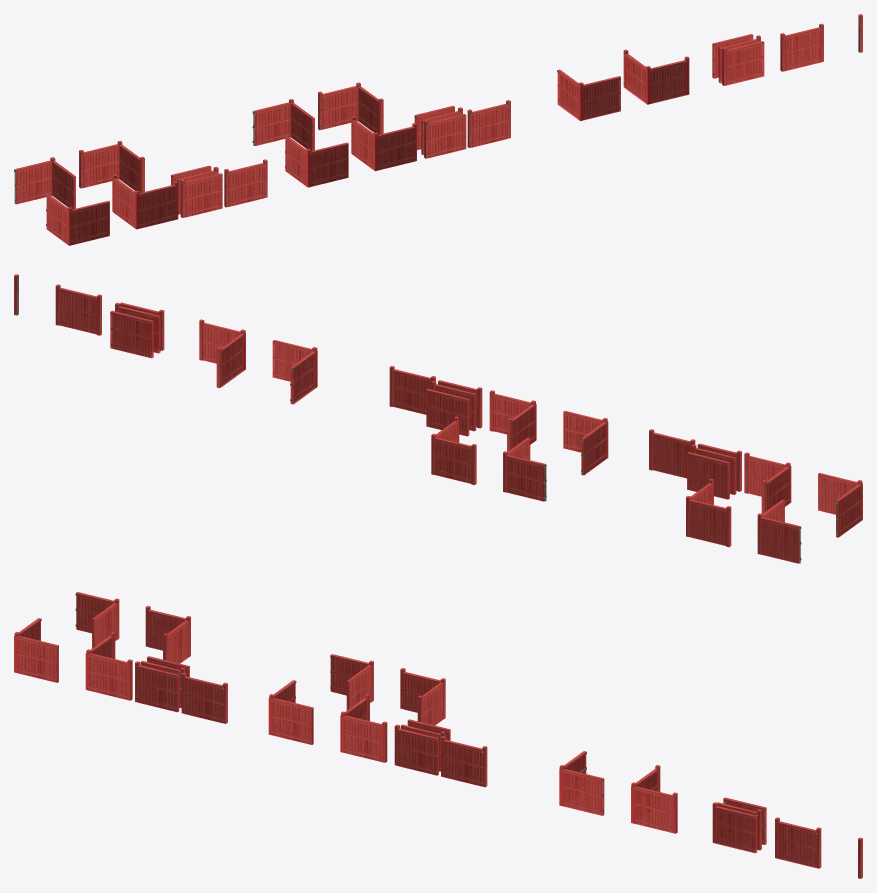
Rendered from plank_fence_with_proxy.obj.
3 renders of one model, top to bottom at view 1: azimuth 30°, elevation 25°; view 2: azimuth 150°, elevation 25°; view 3: azimuth 330°, elevation 25°, orthographic. The views are drawn at different scales.
Parts seen in each view (by area): view 1: plank_fence_a_corner_in, plank_fence_c_corner, plank_fence_b_corner_in, plank_fence_a_corner_out, plank_fence_b_corner_out, plank_fence_b_corner_in_nocol, plank_fence_a_corner_in_nocol, plank_fence_c_corner_nocol, plank_fence_b_corner_out_nocol, plank_fence_a_corner_out_nocol, plank_fence_c, plank_fence_a (+5 smaller); view 2: plank_fence_c_corner, plank_fence_b_corner_out, plank_fence_a_corner_out, plank_fence_c_corner_nocol, plank_fence_b_corner_in_nocol, plank_fence_a_corner_in_nocol, plank_fence_a_corner_in, plank_fence_b_corner_in, plank_fence_b_corner_out_nocol, plank_fence_a_corner_out_nocol, plank_fence_c, plank_fence_c_nocol (+6 smaller); view 3: plank_fence_a_corner_in, plank_fence_b_corner_in, plank_fence_c_corner, plank_fence_c_corner_nocol, plank_fence_b_corner_in_nocol, plank_fence_a_corner_in_nocol, plank_fence_b_corner_out, plank_fence_a_corner_out, plank_fence_a, plank_fence_c, plank_fence_b, plank_fence_a_corner_out_nocol (+4 smaller).
Boxes of the visible parts, x1=… form: plank_fence_a_corner_in: x1=112, y1=174, x2=178, y2=229; plank_fence_c_corner: x1=623, y1=49, x2=689, y2=104; plank_fence_b_corner_in: x1=351, y1=116, x2=416, y2=171; plank_fence_a_corner_out: x1=79, y1=140, x2=144, y2=192; plank_fence_b_corner_out: x1=318, y1=82, x2=383, y2=134; plank_fence_b_corner_in_nocol: x1=284, y1=136, x2=348, y2=187; plank_fence_a_corner_in_nocol: x1=46, y1=194, x2=109, y2=245; plank_fence_c_corner_nocol: x1=557, y1=69, x2=620, y2=120; plank_fence_b_corner_out_nocol: x1=252, y1=99, x2=314, y2=150; plank_fence_a_corner_out_nocol: x1=14, y1=157, x2=75, y2=209; plank_fence_c: x1=780, y1=23, x2=823, y2=71; plank_fence_a: x1=224, y1=159, x2=267, y2=207; plank_fence_c_corner: x1=199, y1=319, x2=245, y2=388; plank_fence_b_corner_out: x1=431, y1=416, x2=476, y2=485; plank_fence_a_corner_out: x1=686, y1=478, x2=731, y2=547; plank_fence_c_corner_nocol: x1=272, y1=340, x2=317, y2=404; plank_fence_b_corner_in_nocol: x1=563, y1=411, x2=608, y2=475; plank_fence_a_corner_in_nocol: x1=818, y1=473, x2=862, y2=537; plank_fence_a_corner_in: x1=744, y1=452, x2=791, y2=513; plank_fence_b_corner_in: x1=489, y1=390, x2=536, y2=451; plank_fence_b_corner_out_nocol: x1=503, y1=437, x2=546, y2=501; plank_fence_a_corner_out_nocol: x1=757, y1=499, x2=801, y2=563; plank_fence_c: x1=55, y1=284, x2=101, y2=335; plank_fence_c_nocol: x1=110, y1=310, x2=153, y2=358; plank_fence_a_corner_in: x1=85, y1=632, x2=132, y2=700; plank_fence_b_corner_in: x1=340, y1=694, x2=387, y2=762; plank_fence_c_corner: x1=631, y1=765, x2=677, y2=833; plank_fence_c_corner_nocol: x1=559, y1=751, x2=604, y2=815; plank_fence_b_corner_in_nocol: x1=268, y1=680, x2=313, y2=744; plank_fence_a_corner_in_nocol: x1=14, y1=618, x2=58, y2=682; plank_fence_b_corner_out: x1=400, y1=668, x2=445, y2=725; plank_fence_a_corner_out: x1=145, y1=606, x2=190, y2=663; plank_fence_a: x1=181, y1=672, x2=227, y2=723; plank_fence_c: x1=775, y1=817, x2=821, y2=868; plank_fence_b: x1=441, y1=736, x2=487, y2=787; plank_fence_a_corner_out_nocol: x1=75, y1=592, x2=119, y2=648.
Size of the model in its own units: 5497 by 244 by 692.
